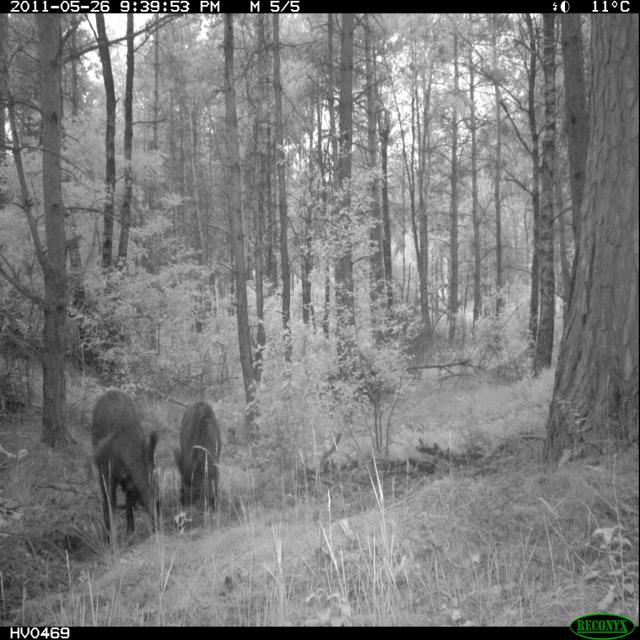boar: (79, 369, 216, 546), (164, 382, 238, 524)
